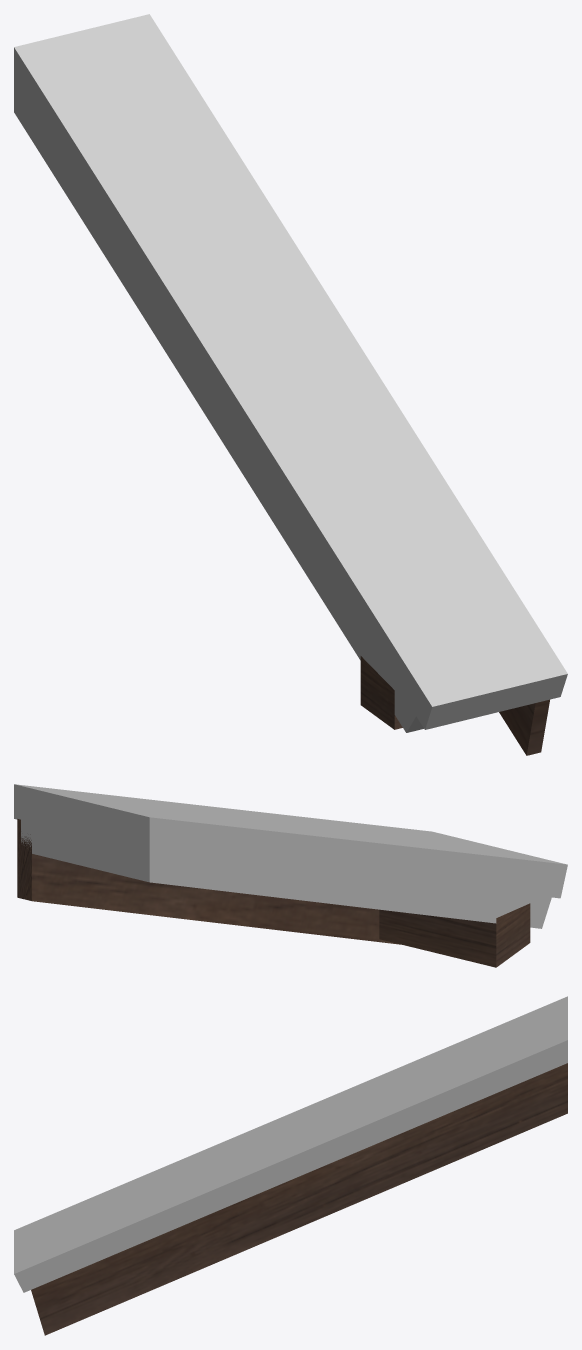
File: kawara__x1t_a1end_l.fbx
3 renders of one model, top to bottom at view 1: azimuth 30°, elevation 25°; view 2: azimuth 150°, elevation 25°; view 3: azimuth 270°, elevation 25°, orthographic. The views are drawn at different scales.
Parts seen in each view (by area): view 1: kawara__x1t_a1end_l; view 2: kawara__x1t_a1end_l; view 3: kawara__x1t_a1end_l.
Boxes of the visible parts, box(x1,y1,x2,y2) form: kawara__x1t_a1end_l: box(14, 14, 567, 755); kawara__x1t_a1end_l: box(14, 784, 567, 967); kawara__x1t_a1end_l: box(14, 996, 567, 1335).
Size of the model in its own units: 30 by 94.75 by 160.
